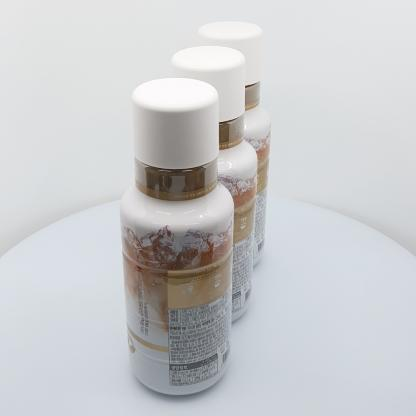----------1-1L: (119, 77, 234, 395)
